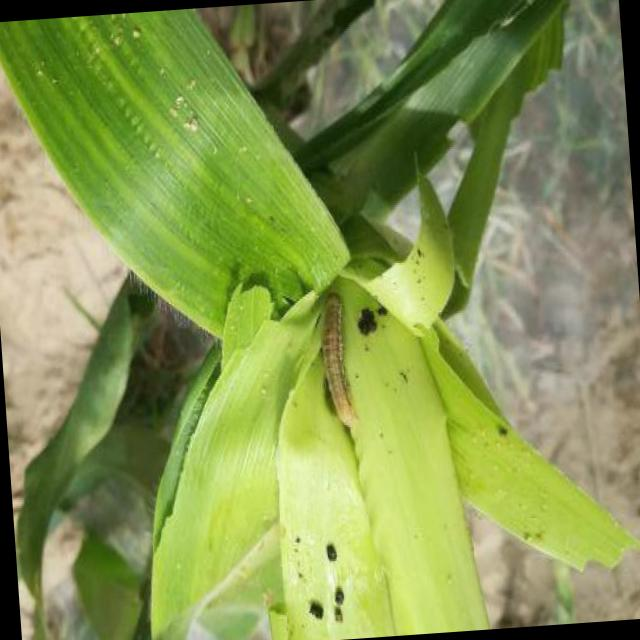pest: (319, 299, 354, 423)
